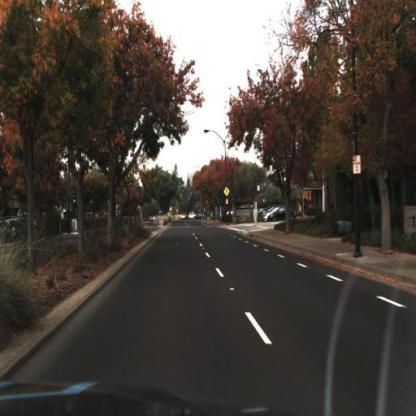car: (268, 206, 299, 224), (261, 205, 286, 224)
